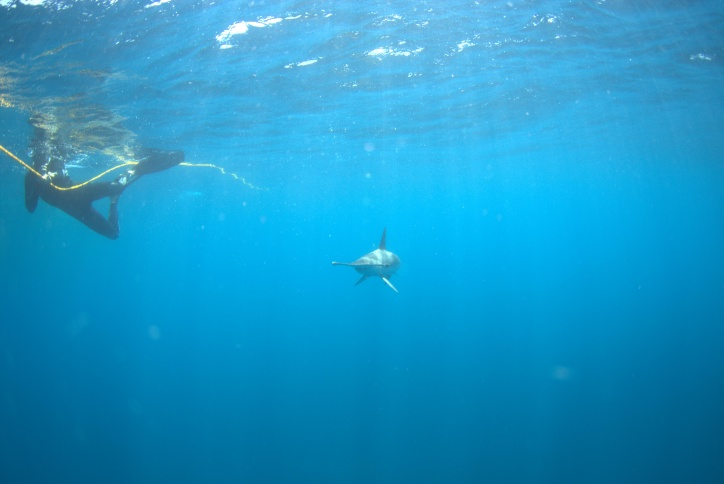Hammer: (300, 219, 436, 315)
